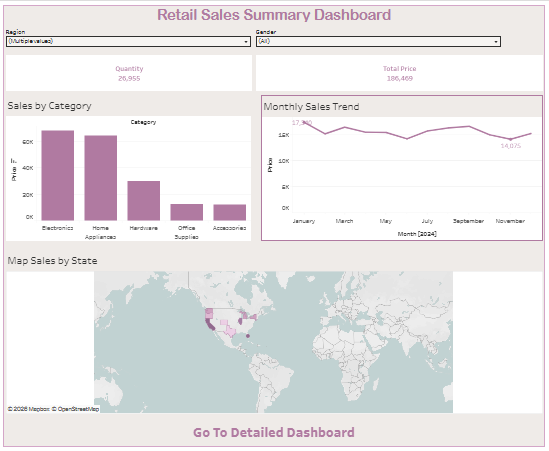

The page's visual inventory and layout, read from the dashboard file:
{"tool":"tableau","page":{"name":"Retail Sales Summary Dashboard","canvas":[1100,900],"ordinal":1},"visuals":[{"type":"text","box":[9,9,1082,36]},{"type":"dashboard-object","box":[9,44.3,1082,195.2]},{"type":"filter","title":"Sales by Category","param":"[federated.0hplp1i17qelo71c1ko0k0abbict].[none:Region:nk]","box":[9,47,500,52]},{"type":"filter","title":"Sales by Category","param":"[federated.0hplp1i17qelo71c1ko0k0abbict].[none:Gender:nk]","box":[509,47,500,52]},{"type":"worksheet","title":"Quantity","mark":"Automatic","box":[9,99,500,80]},{"type":"worksheet","title":"Total Price","mark":"Automatic","box":[509,99,582,80]},{"type":"worksheet","title":"Sales by Category","mark":"Automatic","rows":["Price"],"cols":["Category"],"box":[9,179,500,300]},{"type":"worksheet","title":"Monthly Sales Trend","mark":"Automatic","rows":["Price"],"cols":["Date"],"box":[519,179,572,300]},{"type":"worksheet","title":"Map Sales by State","mark":"Automatic","box":[9,489,1082,340]},{"type":"dashboard-object","box":[9,829,1082,62]}]}

Visuals, with their boxes in screenshot pixels (x1, y1, x2, y2), scaled from the page's 1100x900 canvas onto the 549x451 screenshot:
text: [x1=4, y1=5, x2=545, y2=23]
dashboard-object: [x1=4, y1=22, x2=545, y2=120]
"Sales by Category" filter: [x1=4, y1=24, x2=254, y2=50]
"Sales by Category" filter: [x1=254, y1=24, x2=504, y2=50]
"Quantity" worksheet: [x1=4, y1=50, x2=254, y2=90]
"Total Price" worksheet: [x1=254, y1=50, x2=545, y2=90]
"Sales by Category" worksheet: [x1=4, y1=90, x2=254, y2=240]
"Monthly Sales Trend" worksheet: [x1=259, y1=90, x2=545, y2=240]
"Map Sales by State" worksheet: [x1=4, y1=245, x2=545, y2=415]
dashboard-object: [x1=4, y1=415, x2=545, y2=446]
